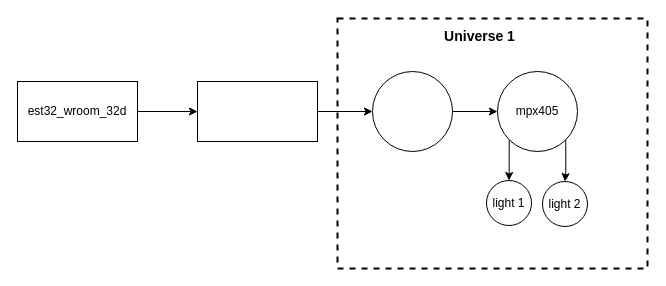
This 666x286 diagram has some shape labels left out. Each missing label, with the box of its shape:
esp32 thing plus dmx to led shield: (196, 80, 318, 142)
mf078: (372, 70, 452, 152)
